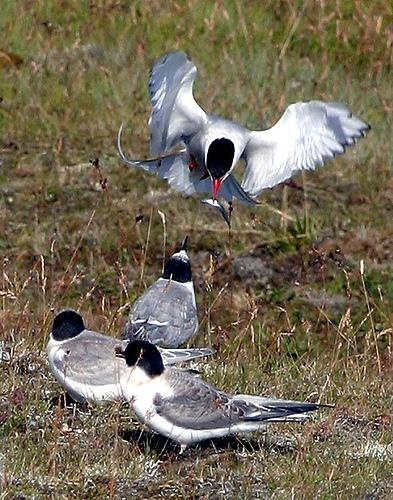bird: (110, 47, 372, 237), (111, 335, 322, 441), (41, 298, 217, 388), (121, 236, 222, 351)
